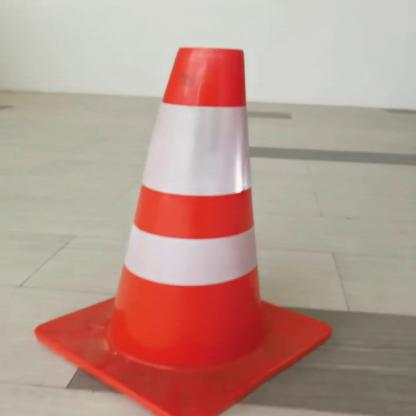cone: (25, 41, 338, 415)
